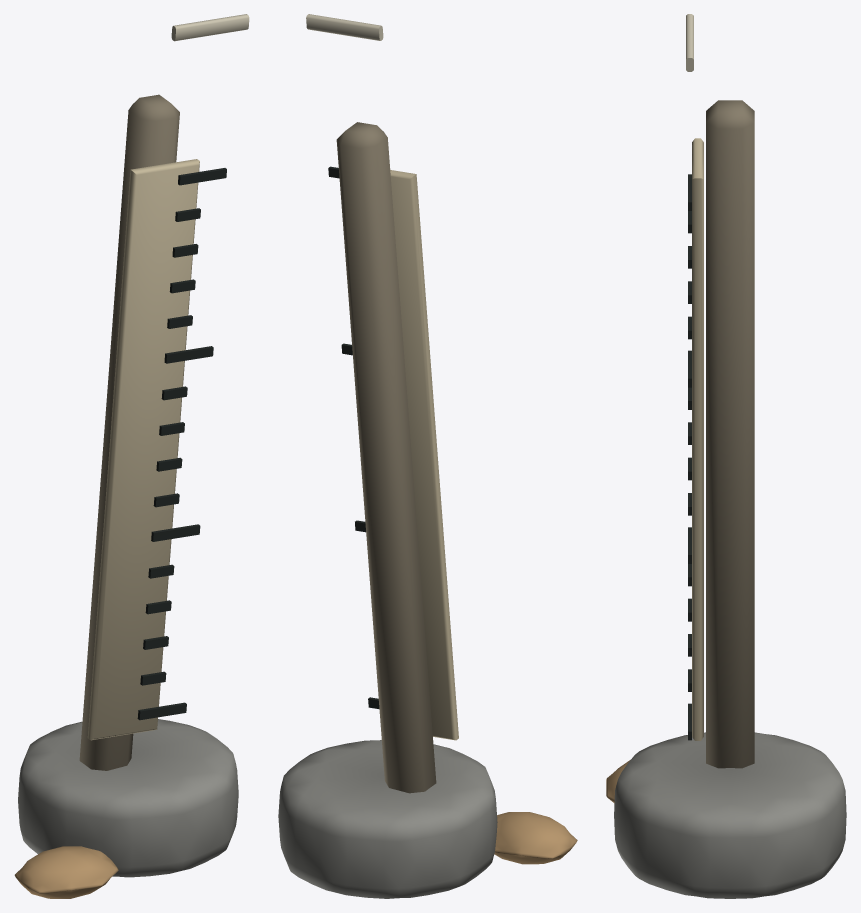
Rendered from staff_gauge_a.glb.
The picture shows the model from 3 angles, left to right: view 1: azimuth 30°, elevation 25°; view 2: azimuth 150°, elevation 25°; view 3: azimuth 270°, elevation 25°; orthographic projection. The views are drawn at different scales.
Visible parts, largest first — view 1: Surface; view 2: Surface; view 3: Surface.
Part boxes in pixels (x1,y1,x2,y2): Surface: (14, 14, 249, 898); Surface: (278, 14, 577, 898); Surface: (606, 14, 846, 898).
Size of the model in its own units: 0.734 by 2.35 by 0.5942.
